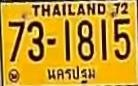1: (101, 19, 107, 61), (65, 20, 70, 60)
3: (27, 20, 43, 60)
5: (113, 18, 131, 59)
7: (8, 20, 24, 61)
8: (77, 19, 94, 61)
NPT: (46, 64, 97, 85)
